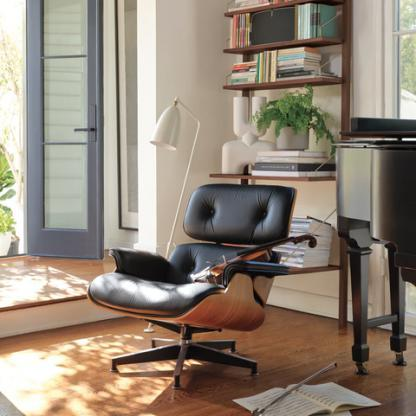chair: (85, 182, 309, 394)
door: (24, 1, 104, 258)
light: (149, 100, 204, 259)
